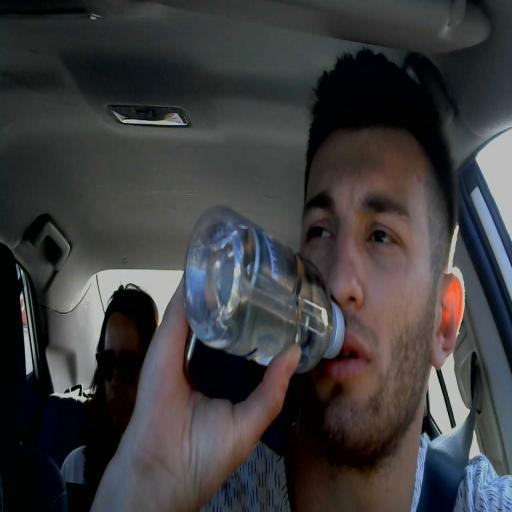Drinking: (182, 129, 467, 454)
